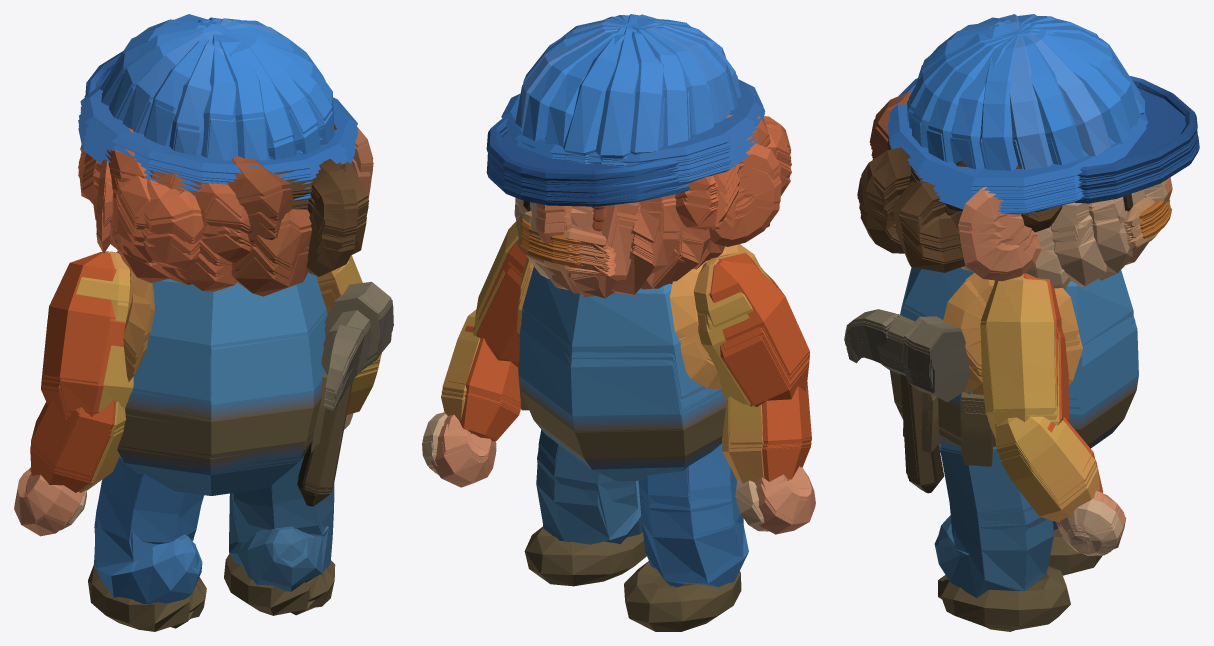
File: worker_idle.fbx
The picture shows the model from 3 angles, left to right: view 1: azimuth 30°, elevation 25°; view 2: azimuth 150°, elevation 25°; view 3: azimuth 270°, elevation 25°; orthographic projection. The views are drawn at different scales.
Parts seen in each view (by area): view 1: Idle; view 2: Idle; view 3: Idle.
Part boxes in pixels (x1,y1,x2,y2): Idle: (14,14,393,631); Idle: (422,14,815,631); Idle: (844,14,1199,631).
Bounding box in the file's own units: 1.34 × 2.08 × 1.18.
